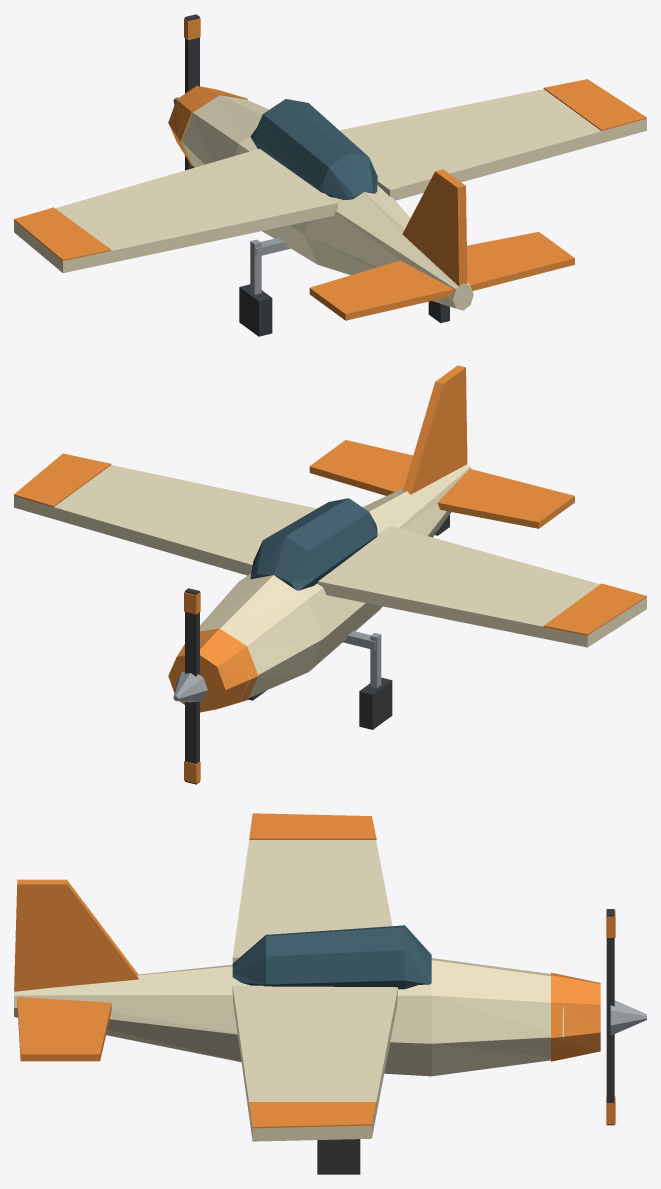
The model's file is astra-trainer.glb.
3 views of the same model, one above another, from view 1: azimuth 30°, elevation 25°; view 2: azimuth 150°, elevation 25°; view 3: azimuth 270°, elevation 25° (orthographic). The views are drawn at different scales.
Visible parts, largest first — view 1: wing_L, wing_R, fuselage, canopy, stabilizer_L, fin, stabilizer_R, livery_wing_R, livery_wing_L, cowling, wheel_-1.15, propeller_blade (+1 smaller); view 2: wing_L, wing_R, fuselage, canopy, fin, stabilizer_L, cowling, stabilizer_R, livery_wing_L, livery_wing_R, propeller_blade, wheel_-1.15 (+2 smaller); view 3: fuselage, wing_R, wing_L, canopy, fin, stabilizer_R, cowling, livery_wing_L, livery_wing_R, wheel_1.15, propeller_blade, spinner.
Part boxes in pixels (<box>): wing_L: <box>14,148,337,272</box>; wing_R: <box>339,89,646,200</box>; fuselage: <box>177,95,473,310</box>; canopy: <box>250,99,377,199</box>; stabilizer_L: <box>309,260,453,320</box>; fin: <box>402,169,467,286</box>; stabilizer_R: <box>467,232,574,290</box>; livery_wing_R: <box>543,79,646,131</box>; livery_wing_L: <box>14,207,111,260</box>; cowling: <box>168,86,247,166</box>; wheel_-1.15: <box>239,284,272,336</box>; propeller_blade: <box>185,14,199,170</box>; wing_L: <box>317,525,646,647</box>; wing_R: <box>14,465,316,575</box>; fuselage: <box>200,464,471,700</box>; canopy: <box>250,498,377,590</box>; fin: <box>402,365,467,494</box>; stabilizer_L: <box>437,469,574,528</box>; cowling: <box>168,628,258,712</box>; stabilizer_R: <box>309,440,413,495</box>; livery_wing_L: <box>543,583,646,635</box>; livery_wing_R: <box>14,453,111,507</box>; propeller_blade: <box>185,588,199,784</box>; wheel_-1.15: <box>359,677,392,729</box>; fuselage: <box>14,958,563,1076</box>; wing_R: <box>232,985,398,1141</box>; wing_L: <box>232,839,392,963</box>; canopy: <box>232,925,431,989</box>; fin: <box>14,879,138,991</box>; stabilizer_R: <box>17,997,111,1061</box>; cowling: <box>551,972,600,1061</box>; livery_wing_L: <box>249,813,376,839</box>; livery_wing_R: <box>249,1102,376,1128</box>; wheel_1.15: <box>317,1139,360,1174</box>; propeller_blade: <box>606,909,614,1125</box>; spinner: <box>610,1000,646,1035</box>.
Size of the model in its own units: 11.2 by 4.28 by 9.55.
